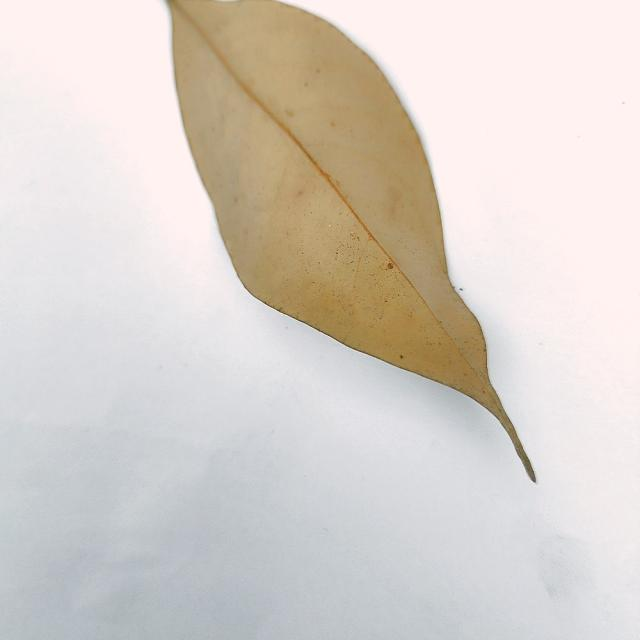Dry_Leaf-Lychee: (164, 0, 535, 482)
